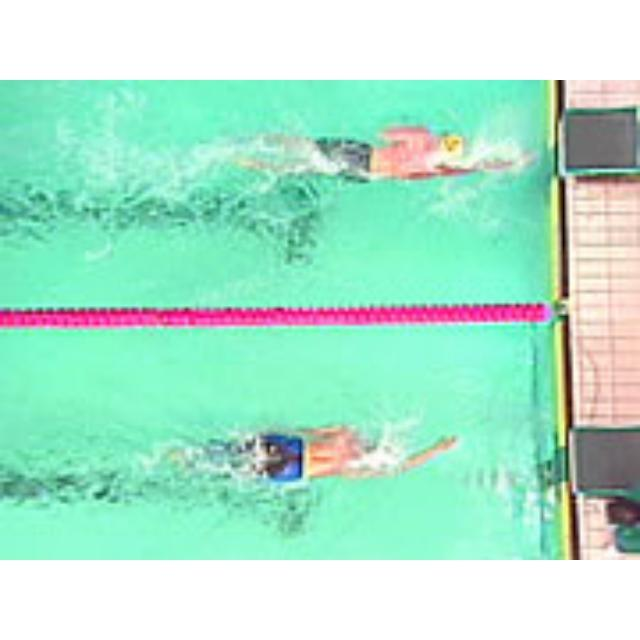human: (232, 421, 463, 488), (285, 125, 541, 185)
